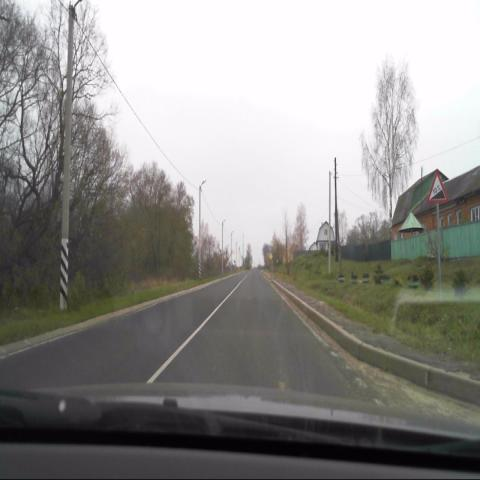1_14: (427, 172, 447, 204)
